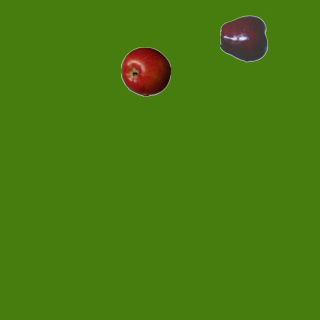Apple Braeburn: (120, 46, 170, 96)
Apple Red Delicious: (219, 13, 269, 63)
